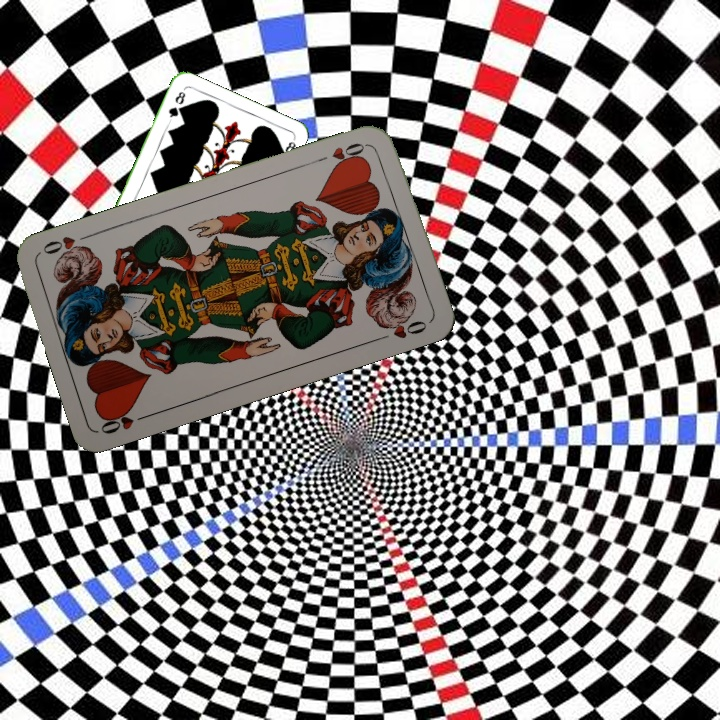G8: (164, 87, 188, 124)
HO: (313, 138, 371, 171), (96, 405, 155, 437)
